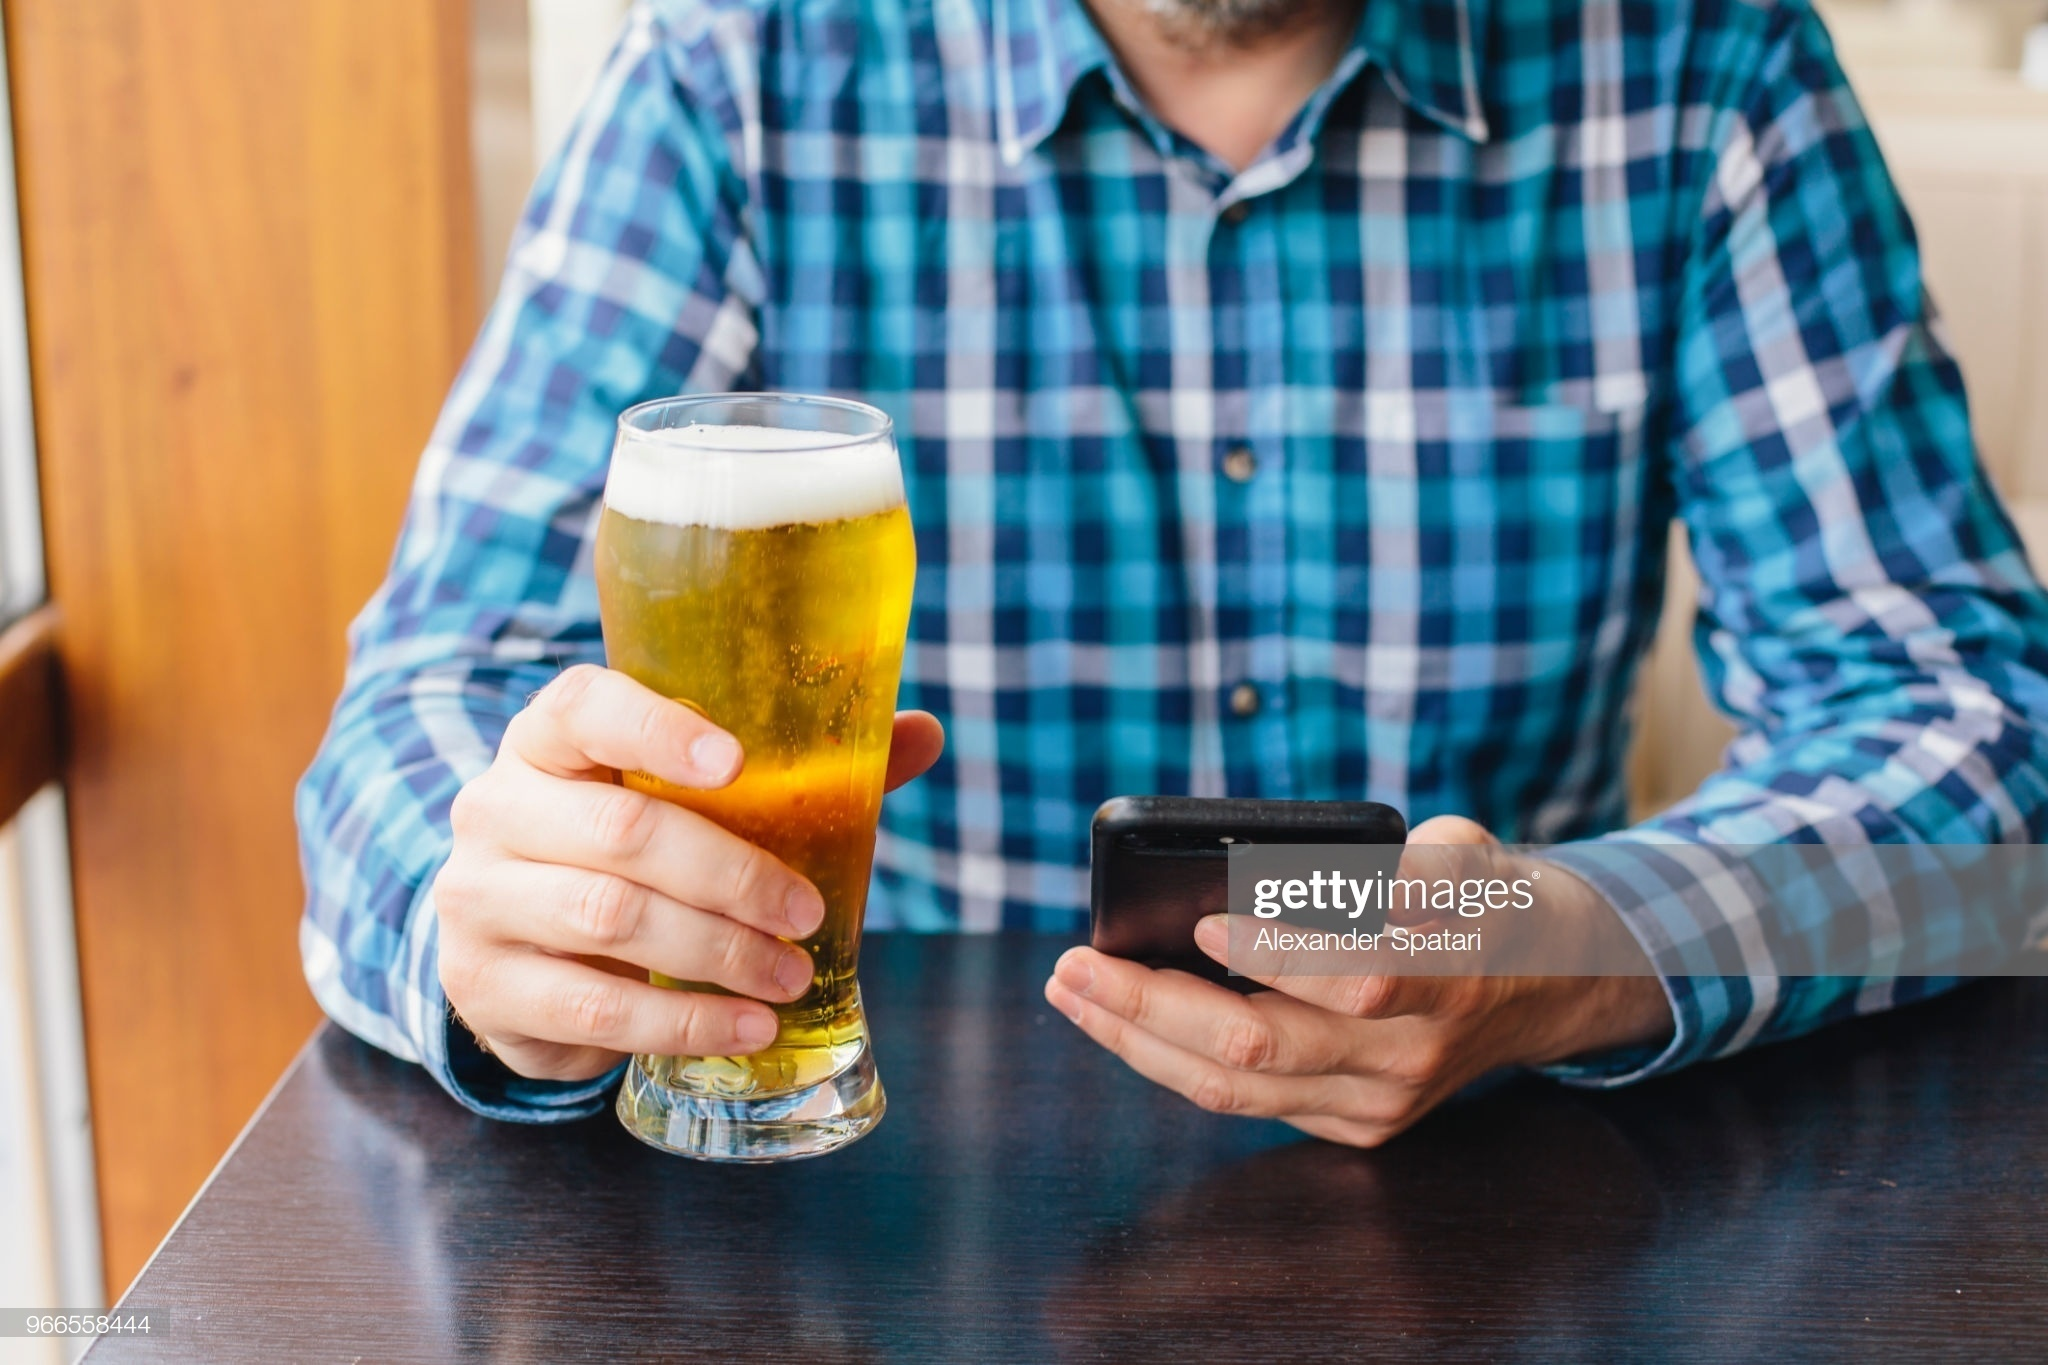whiskey: (608, 411, 927, 1140)
